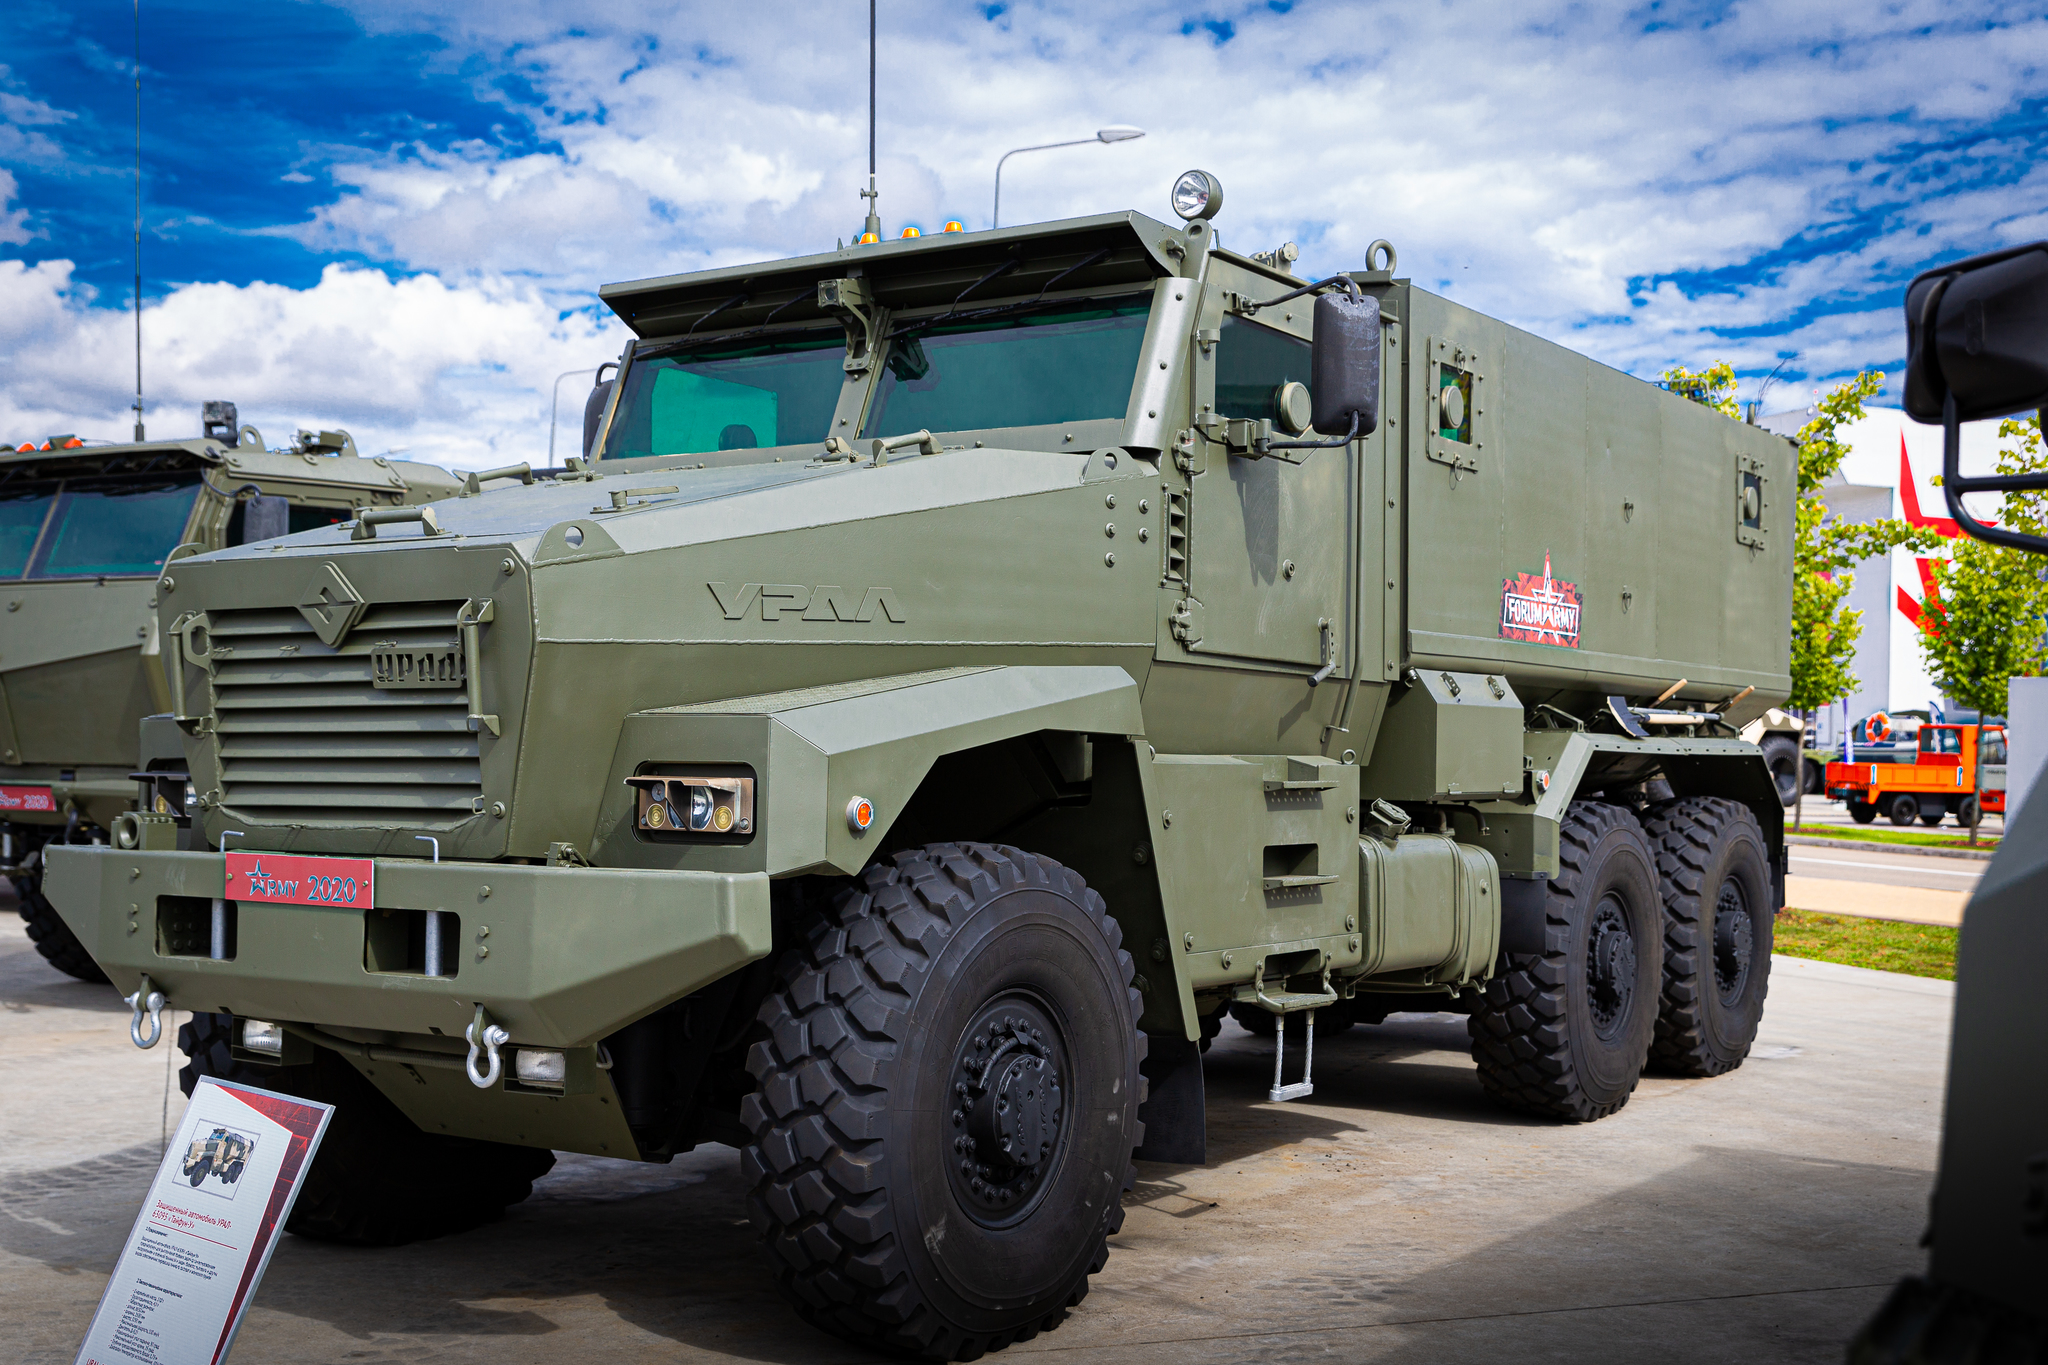warauto: (105, 229, 1798, 1350), (2, 439, 487, 951)
